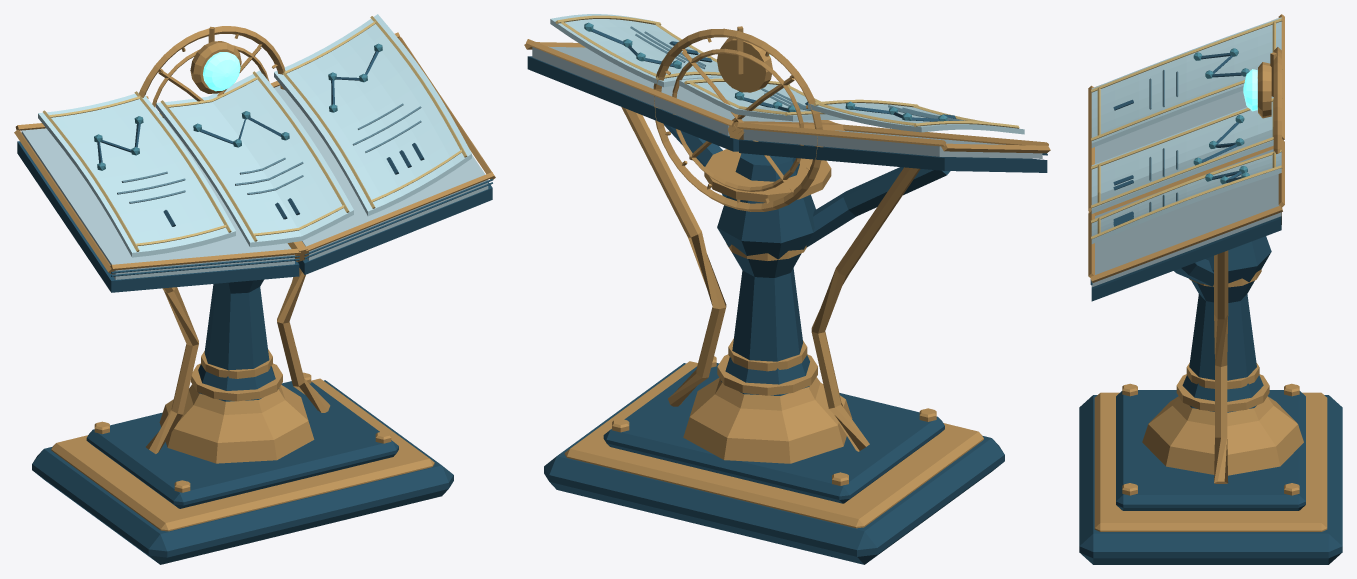
Rendered from nightglass-record-v1.glb.
3 renders of one model, left to right at view 1: azimuth 30°, elevation 25°; view 2: azimuth 150°, elevation 25°; view 3: azimuth 270°, elevation 25°, orthographic. The views are drawn at different scales.
Parts seen in each view (by area): view 1: TLL_Record_Nightglass, TLL_Record_Brass, LeafC, LeafB, LeafA, TLL_Record_BookBlock, StateLens; view 2: TLL_Record_Nightglass, TLL_Record_Brass, TLL_Record_BookBlock, LeafC, LeafA, LeafB; view 3: TLL_Record_Nightglass, TLL_Record_Brass, LeafA, TLL_Record_BookBlock, LeafB, LeafC, StateLens.
Boxes of the visible parts, bbox=[...] form: TLL_Record_Nightglass: bbox=[17, 141, 492, 564]; TLL_Record_Brass: bbox=[14, 26, 495, 531]; LeafC: bbox=[274, 14, 471, 216]; LeafB: bbox=[156, 70, 353, 247]; LeafA: bbox=[38, 91, 235, 257]; TLL_Record_BookBlock: bbox=[21, 85, 488, 279]; StateLens: bbox=[203, 52, 240, 91]; TLL_Record_Nightglass: bbox=[527, 56, 1047, 564]; TLL_Record_Brass: bbox=[524, 26, 1050, 528]; TLL_Record_BookBlock: bbox=[532, 46, 1042, 158]; LeafC: bbox=[550, 14, 722, 87]; LeafA: bbox=[808, 99, 1024, 134]; LeafB: bbox=[679, 78, 847, 121]; TLL_Record_Nightglass: bbox=[1079, 216, 1342, 564]; TLL_Record_Brass: bbox=[1088, 14, 1327, 531]; LeafA: bbox=[1091, 17, 1282, 147]; TLL_Record_BookBlock: bbox=[1091, 85, 1281, 287]; LeafB: bbox=[1091, 97, 1282, 213]; LeafC: bbox=[1091, 149, 1282, 243]; StateLens: bbox=[1243, 69, 1257, 111].
Size of the model in its own units: 2.24 by 2.41 by 1.3.
